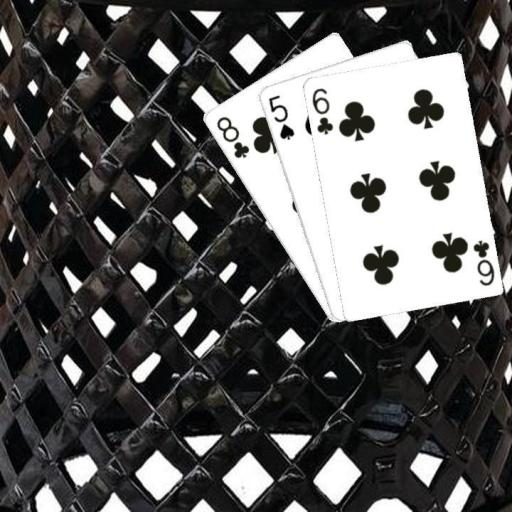card-corner: (213, 112, 251, 160), (264, 92, 296, 142), (469, 236, 496, 287), (309, 84, 334, 136)
